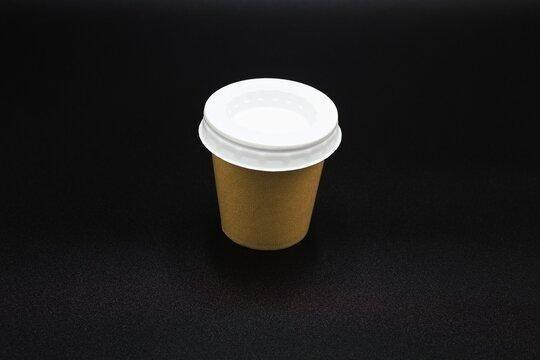cup-disposable: (197, 75, 343, 252)
